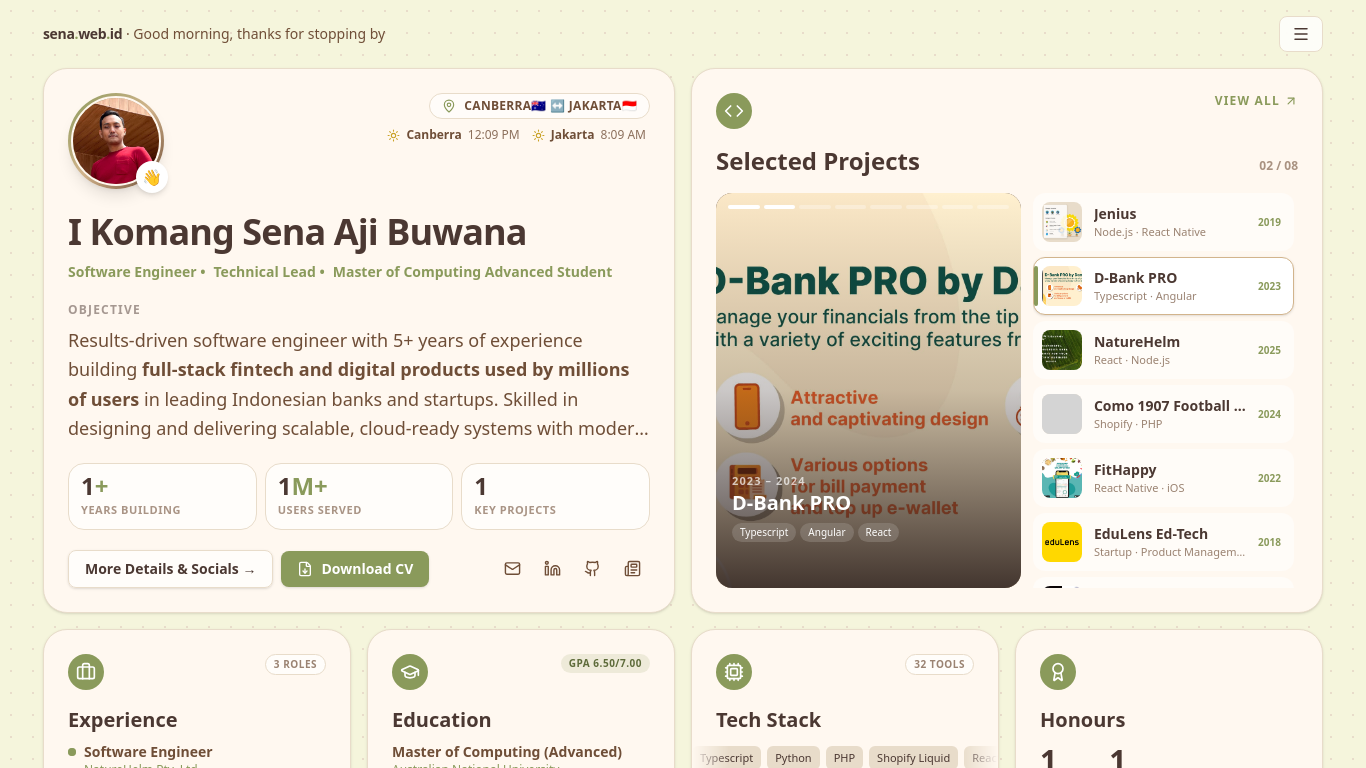
Test case: App (Portfolio) › closes modal when backdrop is clicked
Open modal
Click the text "More Details & Socials →": (359, 568) [68,550,650,588]
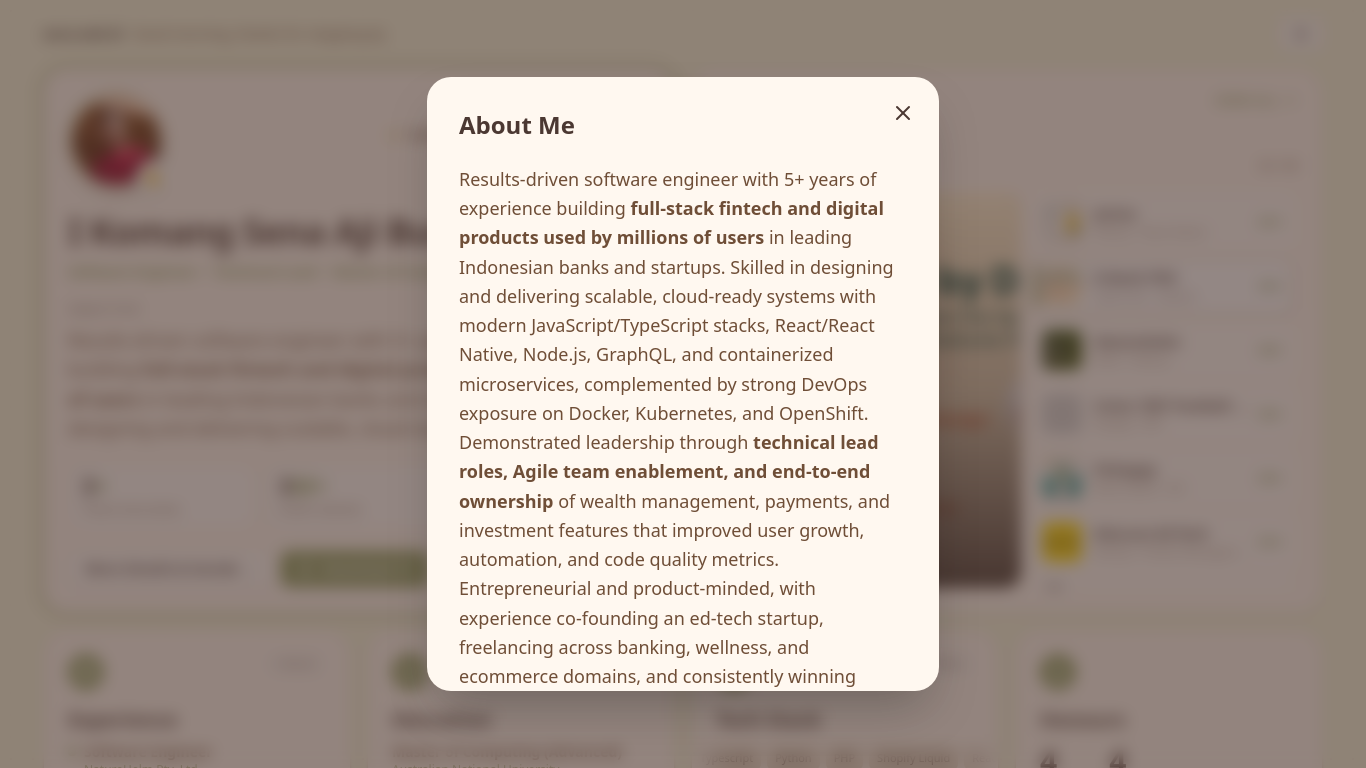
Now the heading "About Me" is shown, box [459,108,575,141]
Click the element that starts with "About Me": (82, 384) [0,0,1365,767]
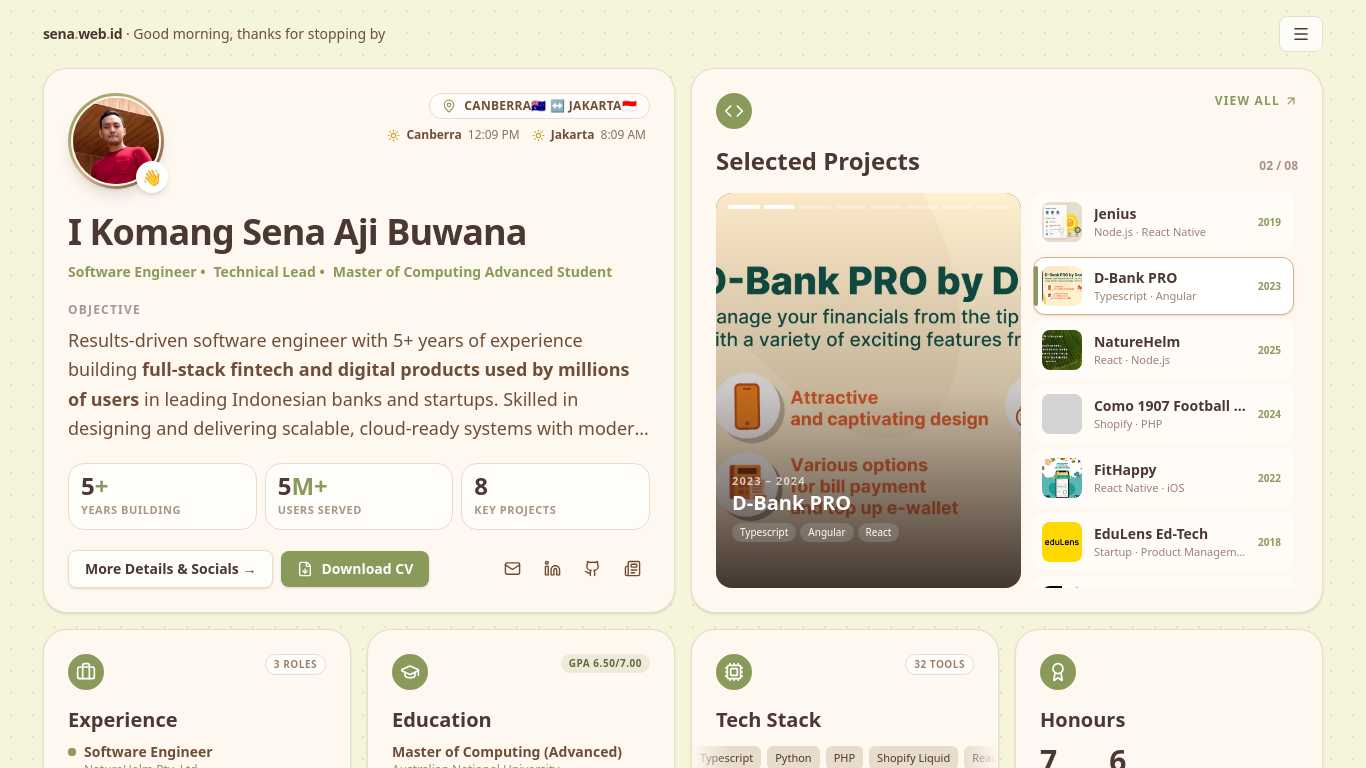
Now the heading "About Me" is gone
